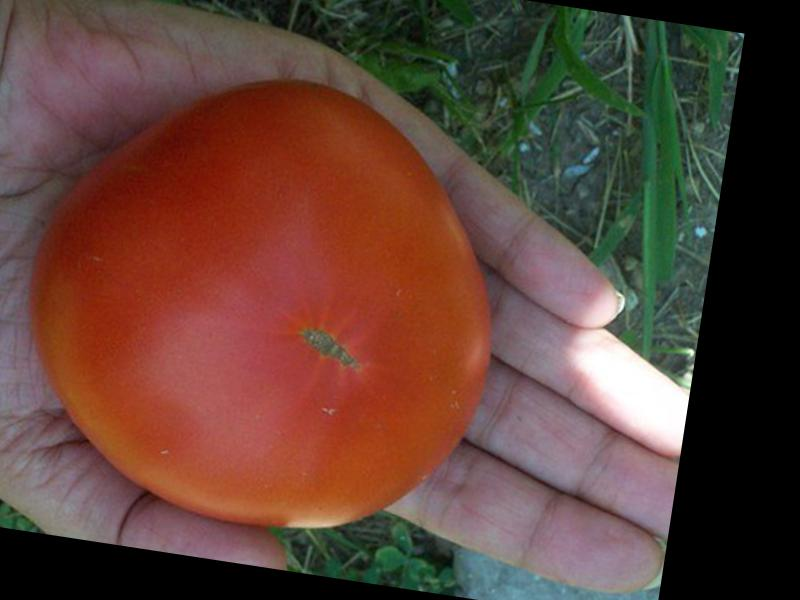Tomato: (6, 45, 525, 555)
